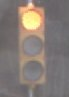Red: (6, 4, 62, 87)
